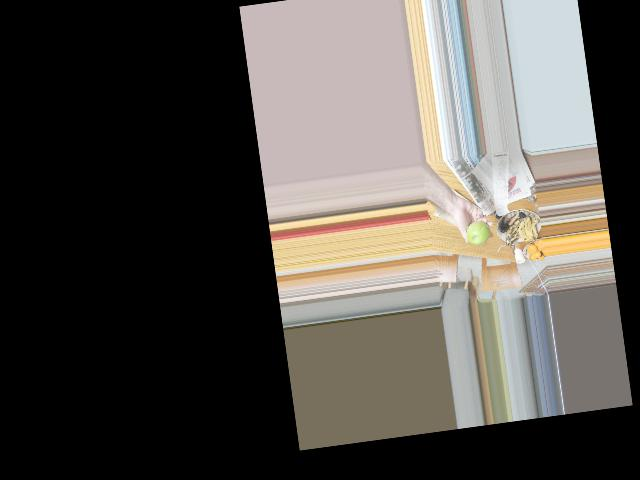apple: (463, 220, 491, 246)
